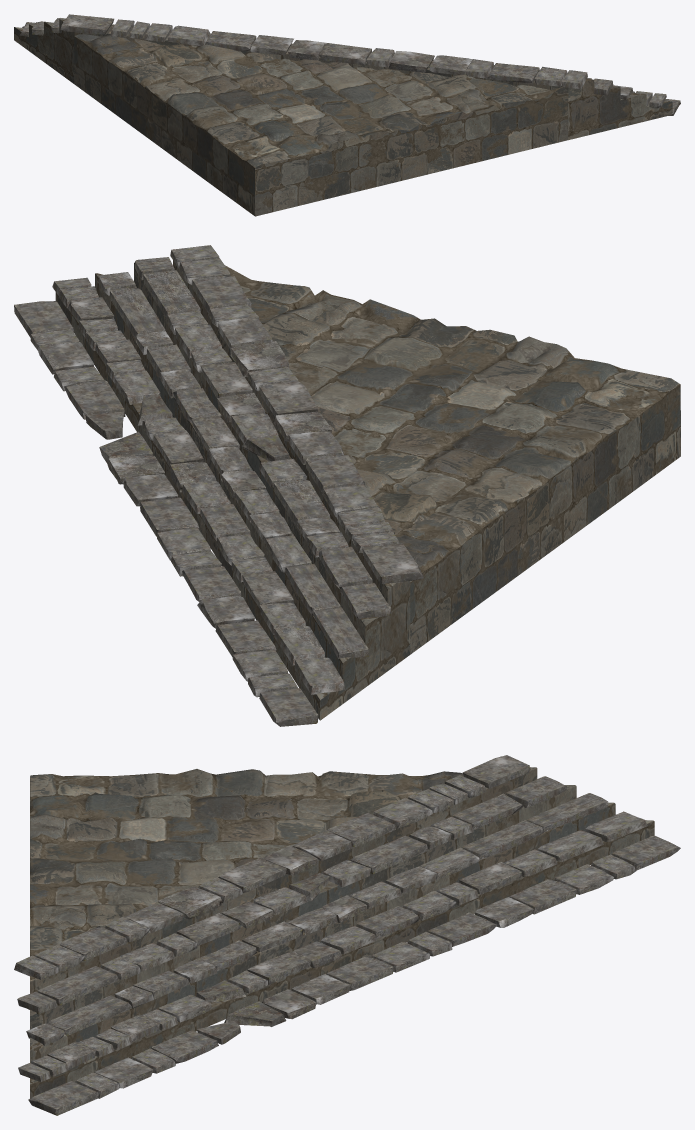
The model's file is SM_Walkway_OuterCorner_01.fbx.
3 renders of one model, top to bottom at view 1: azimuth 30°, elevation 25°; view 2: azimuth 150°, elevation 25°; view 3: azimuth 270°, elevation 25°, orthographic. The views are drawn at different scales.
Parts seen in each view (by area): view 1: SM_Walkway_OuterCorner_01_LOD0; view 2: SM_Walkway_OuterCorner_01_LOD0; view 3: SM_Walkway_OuterCorner_01_LOD0.
Boxes of the visible parts, x1,y1,x2,y2 form: SM_Walkway_OuterCorner_01_LOD0: [14, 14, 680, 216]; SM_Walkway_OuterCorner_01_LOD0: [14, 245, 680, 726]; SM_Walkway_OuterCorner_01_LOD0: [14, 755, 680, 1115].
Size of the model in its own units: 428 by 427 by 57.67.
